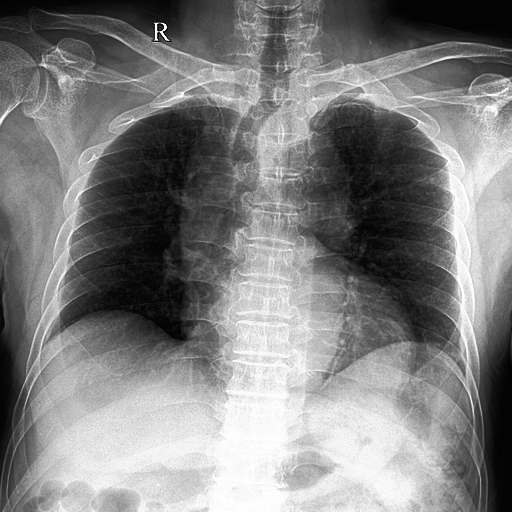Consolidation: (180, 118, 353, 236)
Nodule/Mass: (163, 269, 432, 367)
